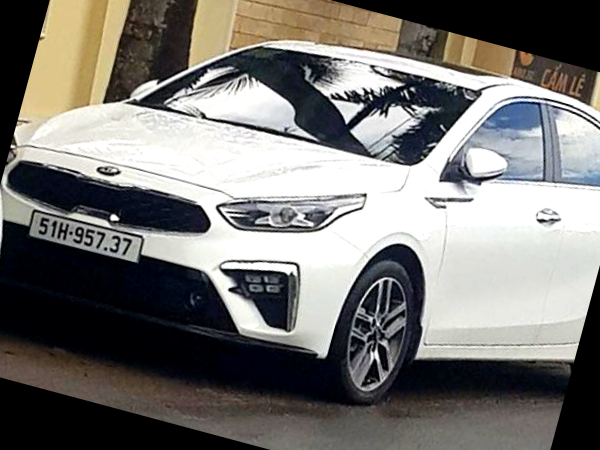lisence: (29, 210, 143, 264)
